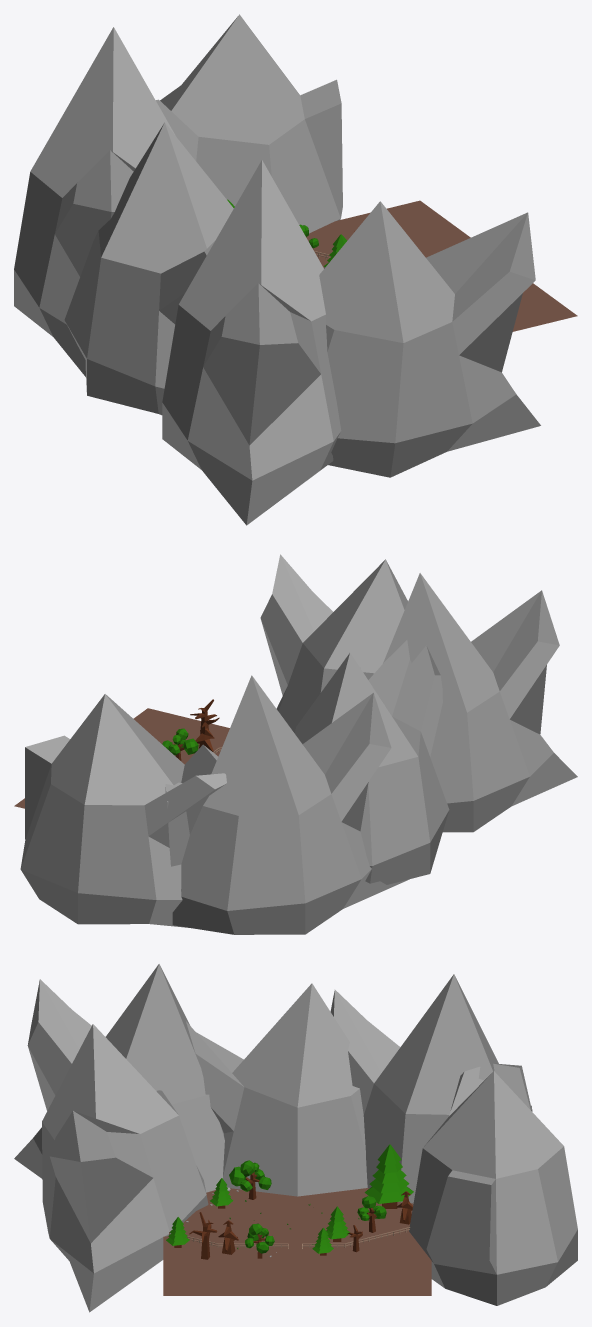
Rendered from LowPolyForestEnvironment.fbx.
3 views of the same model, one above another, from view 1: azimuth 30°, elevation 25°; view 2: azimuth 150°, elevation 25°; view 3: azimuth 270°, elevation 25° (orthographic). The views are drawn at different scales.
Parts seen in each view (by area): view 1: Mountain1.003, Mountain1.002, Mountain1, Mountain1.001, Mountain1.004, Plane; view 2: Mountain1.001, Mountain1.004, Mountain1.002, Mountain1, Mountain1.003, Plane, TreeRegular2; view 3: Mountain1.003, Mountain1.004, Mountain1, Plane, Mountain1.001, Mountain1.002, TreePine.003, TreeRegular2.001, TreeRegular2, TreeRegular, TreePine.
Boxes of the visible parts, x1,y1,x2,y2 form: Mountain1.003: (319,201,540,477); Mountain1.002: (162,160,341,525); Mountain1: (64,122,233,415); Mountain1.001: (14,27,175,376); Mountain1.004: (155,14,342,233); Plane: (306,200,577,331); Mountain1.001: (165,675,409,934); Mountain1.004: (20,694,226,927); Mountain1.002: (383,573,577,832); Mountain1: (295,640,449,884); Mountain1.003: (260,554,407,733); Plane: (14,708,229,808); TreeRegular2: (162,728,198,760); Mountain1.003: (42,1024,208,1312); Mountain1.004: (409,1063,577,1305); Mountain1: (186,983,367,1196); Plane: (163,1188,431,1295); Mountain1.001: (330,974,532,1203); Mountain1.002: (14,964,224,1192); TreePine.003: (364,1144,413,1208); TreeRegular2.001: (229,1160,271,1199); TreeRegular2: (245,1223,274,1258); TreeRegular: (357,1196,386,1232); TreePine: (326,1206,349,1241).
Size of the model in its own units: 12141 by 8110 by 16567.
